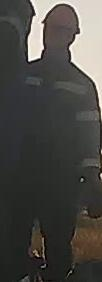gloves: (79, 166, 102, 219)
helmet: (39, 3, 81, 37)
vest: (26, 60, 92, 188)
